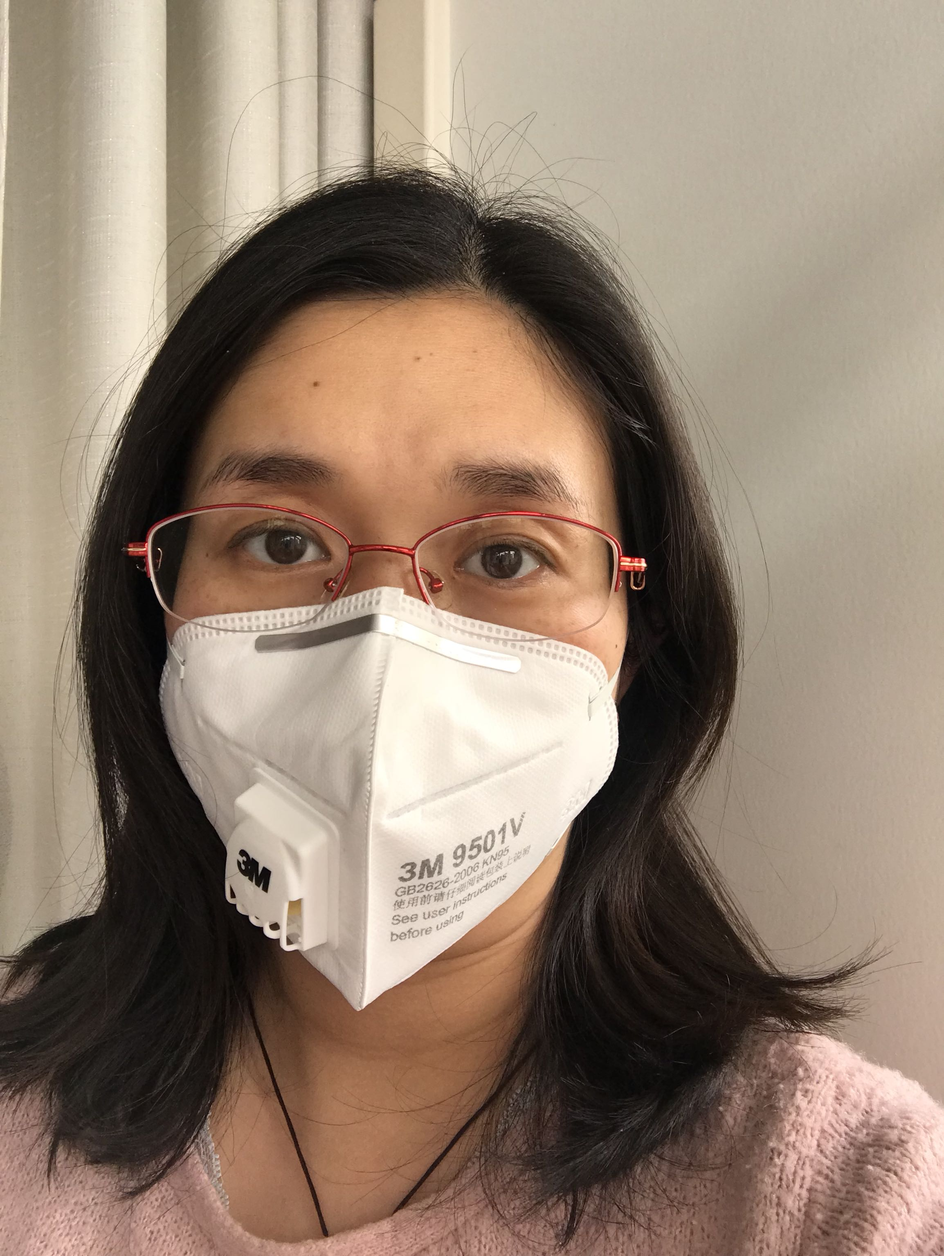with_mask: (118, 174, 707, 1020)
